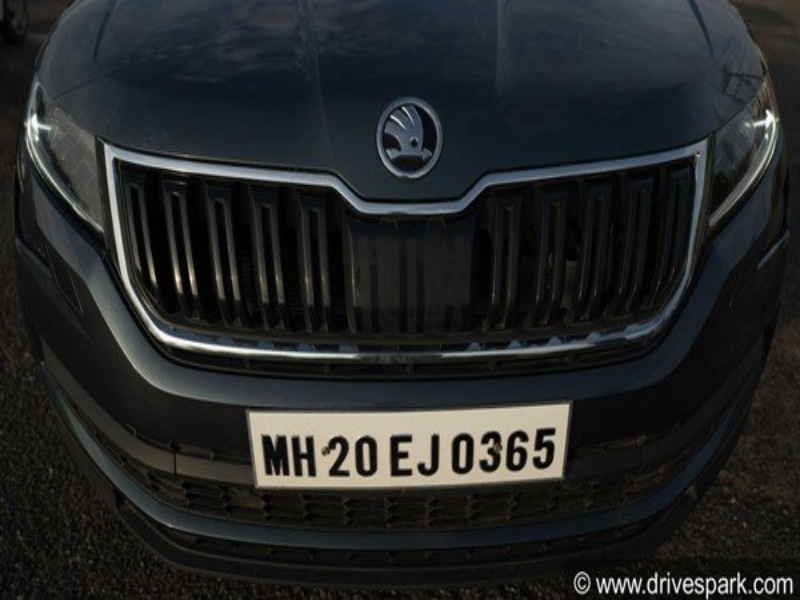numberplate: (251, 416, 567, 485)
